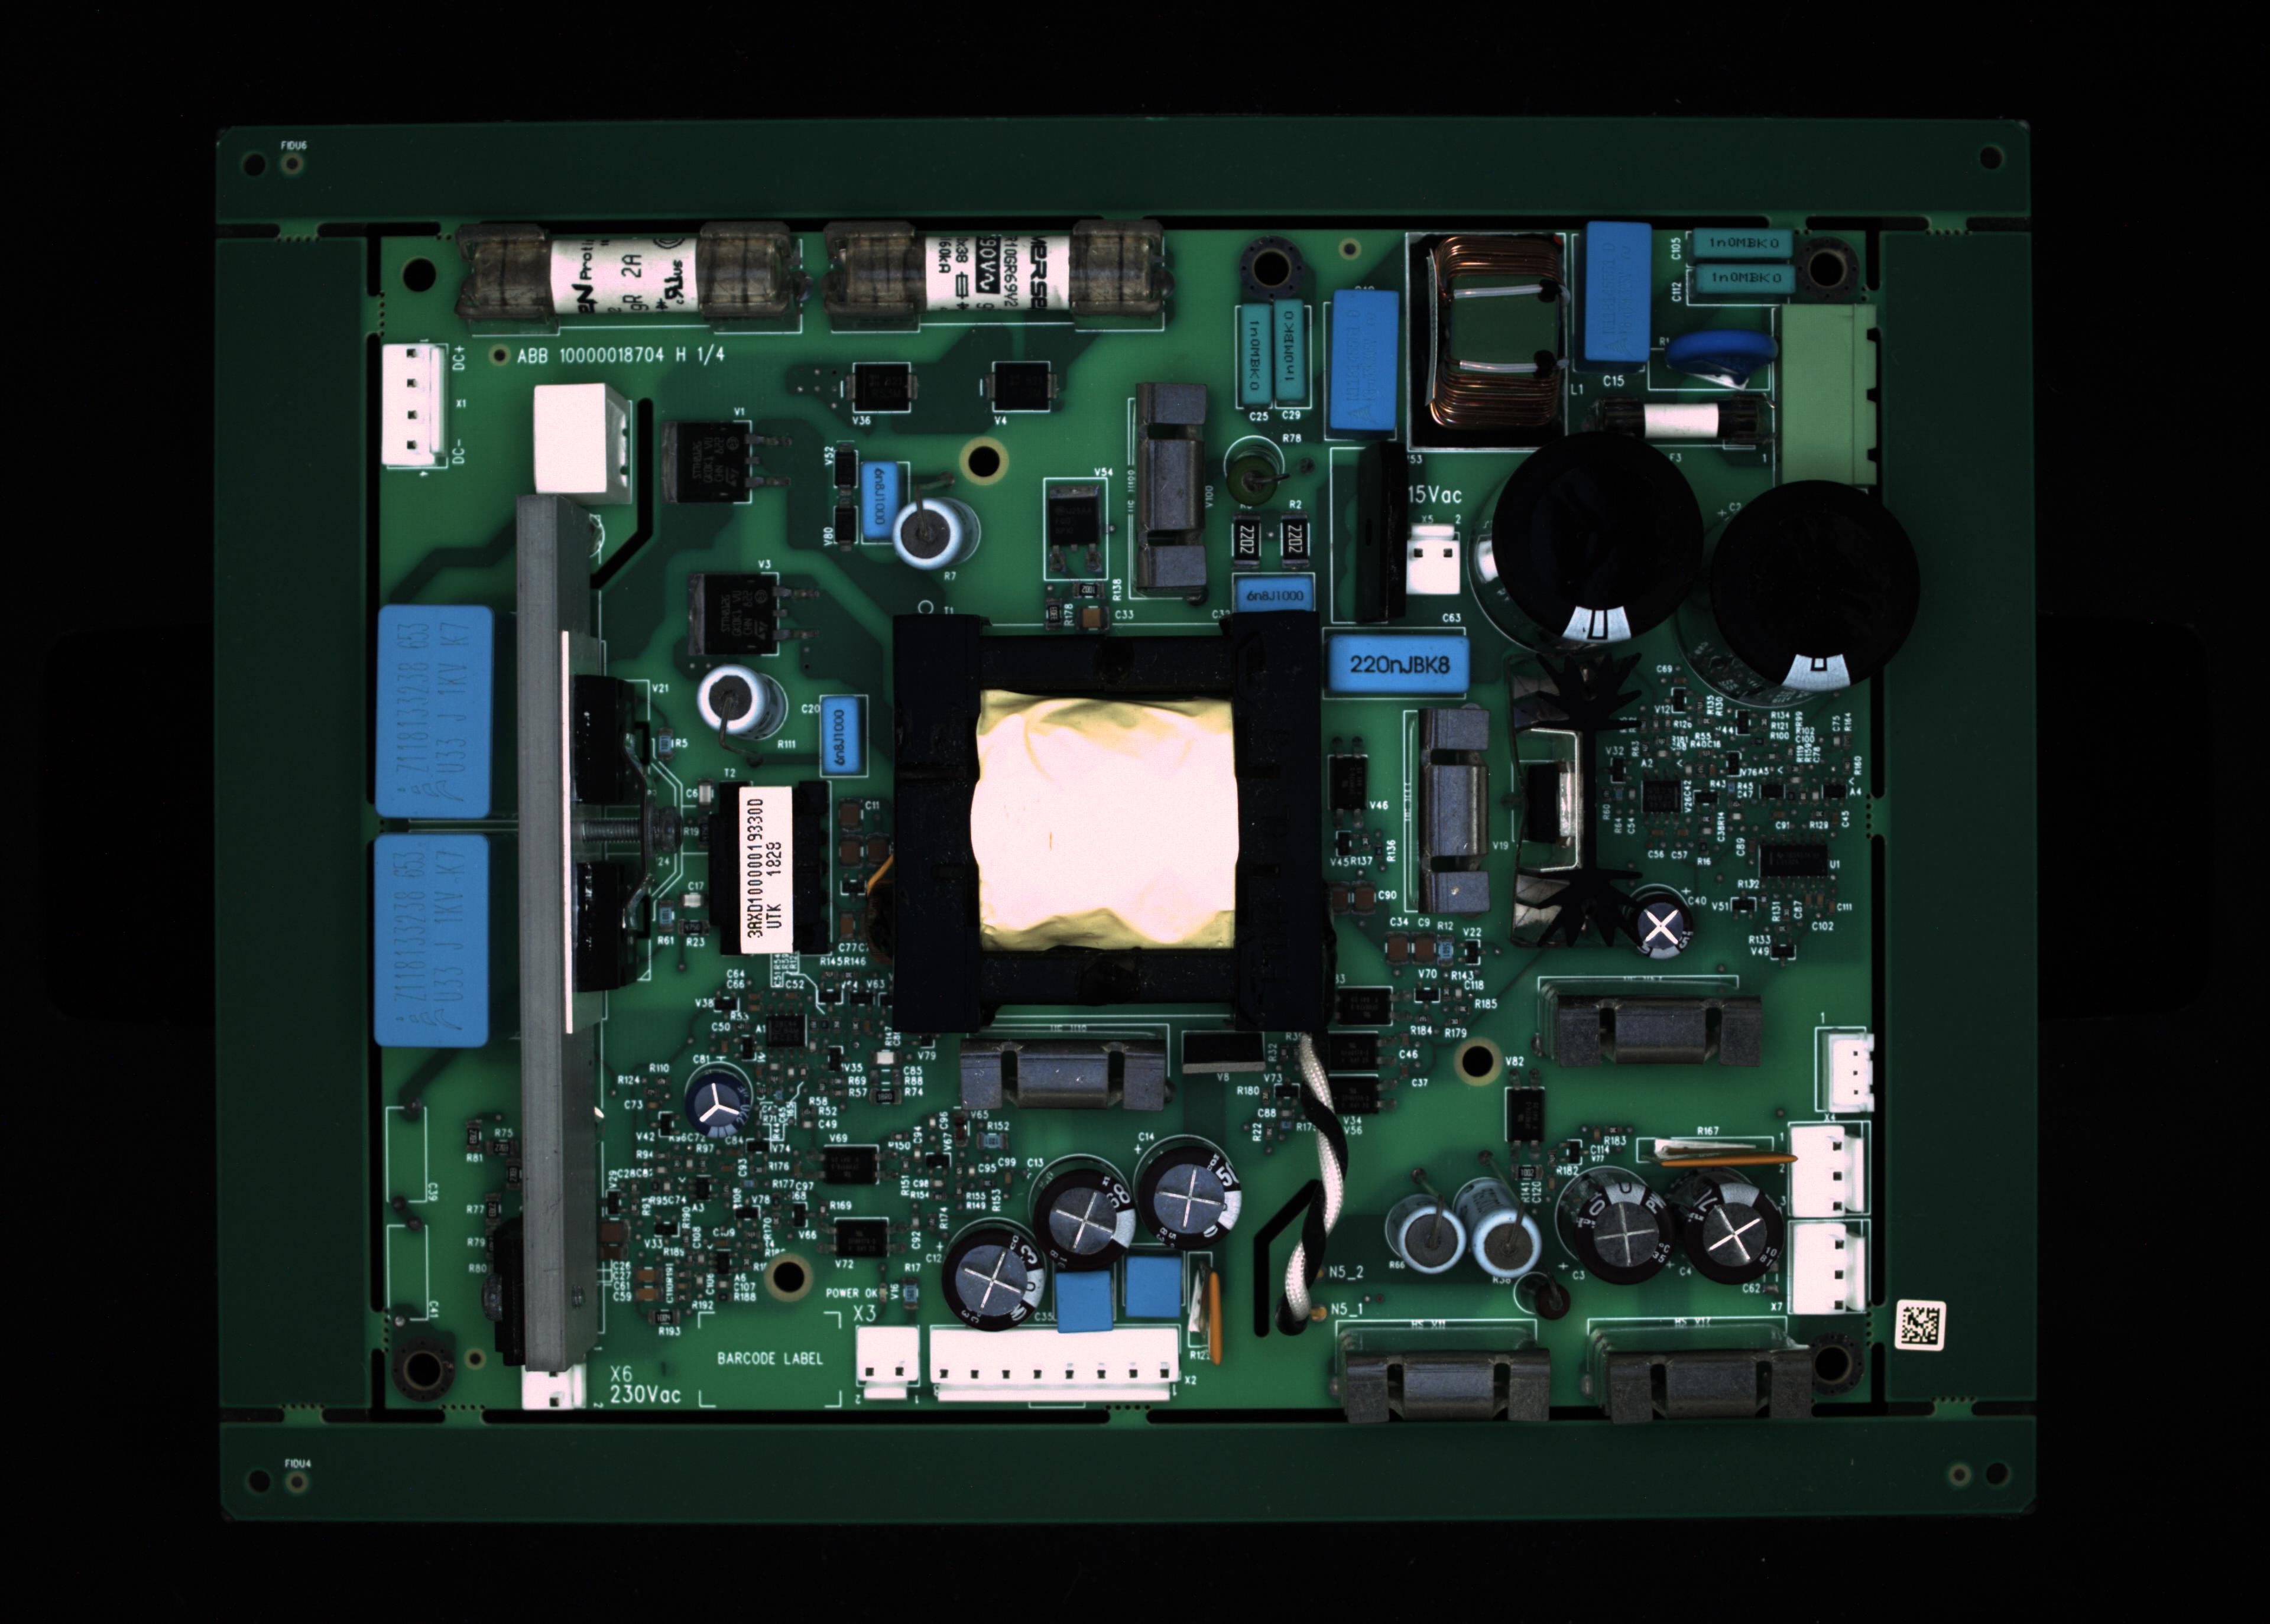10_p: (1648, 346, 1772, 394)
11_q: (1779, 301, 1876, 483)
12_r: (1591, 387, 1776, 455)
13_s: (380, 337, 447, 473)
14_t: (533, 387, 631, 497)
15_e: (860, 459, 899, 540)
16_k: (891, 464, 985, 569)
17_u: (1127, 385, 1206, 591)
18_v: (1229, 573, 1315, 610)
19_w: (1331, 634, 1468, 687)
1_a: (455, 216, 807, 336)
20_f: (1407, 526, 1461, 596)
21_g: (1475, 429, 1709, 670)
22_g: (1707, 482, 1929, 698)
23_h: (375, 603, 496, 814)
24_h: (375, 830, 494, 1048)
25_f: (515, 1360, 591, 1411)
26_f: (851, 1323, 927, 1403)
27_x: (925, 1323, 1180, 1399)
28_i: (1129, 1120, 1241, 1239)
29_i: (1027, 1153, 1134, 1274)
2_a: (819, 216, 1175, 330)
30_i: (941, 1216, 1055, 1339)
31_j: (1050, 1267, 1120, 1339)
32_j: (1115, 1237, 1197, 1329)
33_e: (819, 696, 860, 773)
34_k: (1379, 1192, 1465, 1281)
35_k: (1459, 1188, 1547, 1281)
36_i: (1551, 1164, 1672, 1283)
37_i: (1663, 1160, 1786, 1290)
38_l: (1336, 1346, 1560, 1424)
39_l: (1590, 1345, 1823, 1422)
3_b: (1240, 295, 1270, 408)
40_l: (1539, 995, 1769, 1069)
41_y: (1424, 705, 1491, 909)
42_z: (1822, 1032, 1874, 1113)
43_m: (1792, 1127, 1866, 1216)
44_m: (1788, 1225, 1867, 1313)
45_i: (679, 1065, 756, 1142)
46_n: (1338, 982, 1394, 1025)
47_n: (821, 1144, 877, 1188)
48_n: (832, 1214, 891, 1262)
49_aa: (758, 1007, 812, 1053)
4_b: (1277, 299, 1303, 402)
50_n: (1321, 1030, 1391, 1070)
51_n: (1326, 1070, 1380, 1111)
52_ab: (1331, 756, 1364, 816)
53_ac: (1656, 1130, 1790, 1165)
54_ad: (1194, 1253, 1222, 1364)
55_l: (960, 1032, 1175, 1118)
56_ae: (1176, 1025, 1264, 1074)
57_af: (1509, 647, 1635, 951)
58_i: (1630, 884, 1706, 958)
59_o: (988, 362, 1048, 411)
5_c: (1333, 286, 1400, 429)
60_o: (853, 360, 911, 413)
6_ag: (1405, 232, 1572, 452)
7_c: (1586, 221, 1648, 359)
8_d: (1693, 228, 1792, 260)
9_d: (1693, 262, 1793, 295)
